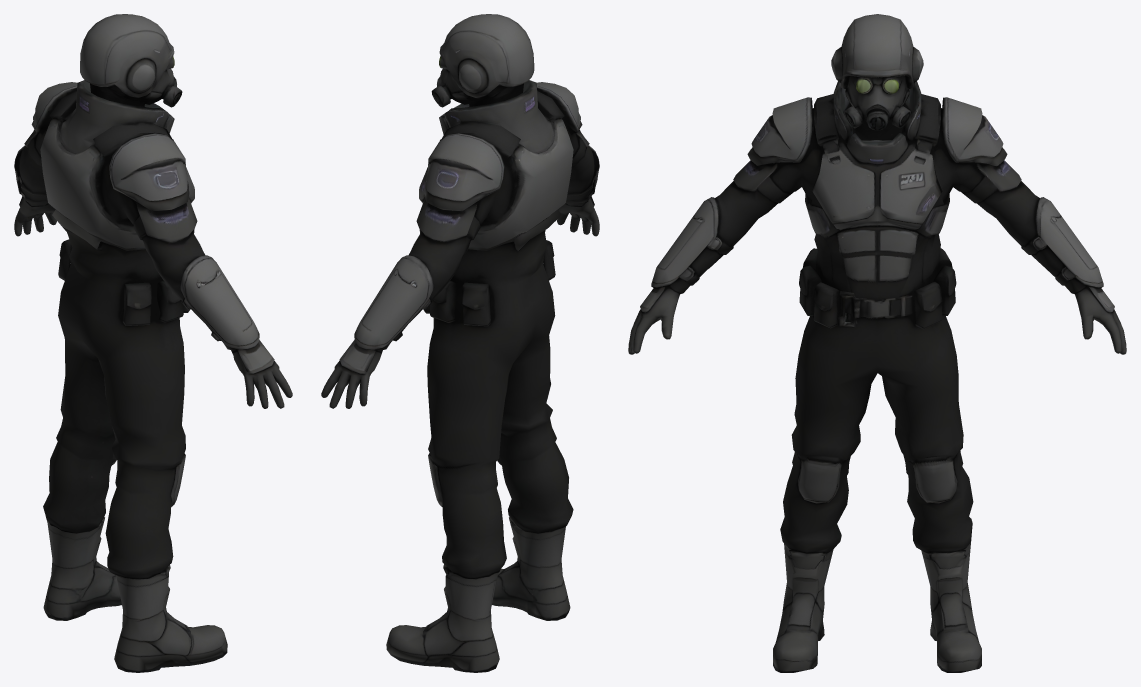
The model's file is warden_l02_rosebud_tripo.glb.
3 views of the same model, side by side, from view 1: azimuth 30°, elevation 25°; view 2: azimuth 150°, elevation 25°; view 3: azimuth 270°, elevation 25° (orthographic). The views are drawn at different scales.
Parts seen in each view (by area): view 1: tripo_node_6ac03fc4-f118-4538-a350-6d0a63197cd2; view 2: tripo_node_6ac03fc4-f118-4538-a350-6d0a63197cd2; view 3: tripo_node_6ac03fc4-f118-4538-a350-6d0a63197cd2.
Part boxes in pixels (x1,y1,x2,y2): tripo_node_6ac03fc4-f118-4538-a350-6d0a63197cd2: (14, 14, 292, 672); tripo_node_6ac03fc4-f118-4538-a350-6d0a63197cd2: (321, 14, 599, 672); tripo_node_6ac03fc4-f118-4538-a350-6d0a63197cd2: (628, 14, 1126, 672).
Size of the model in its own units: 0.2144 by 0.9995 by 0.7192.
Materials: 1 (1 with a texture image).
